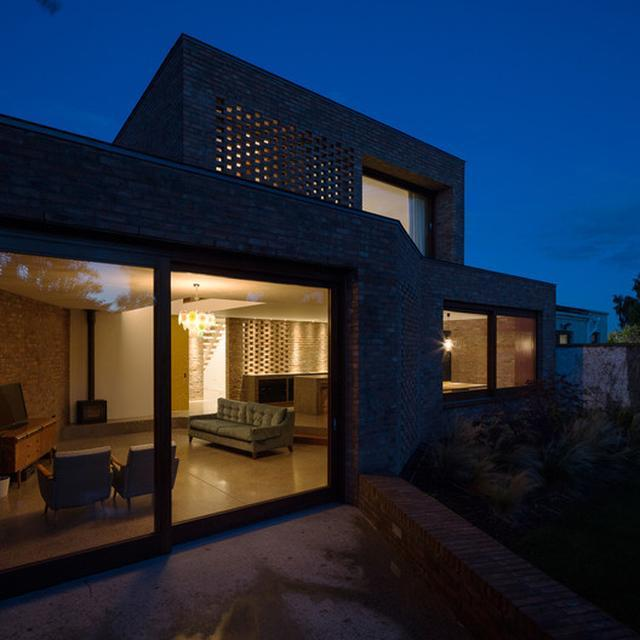building: (0, 29, 559, 609)
